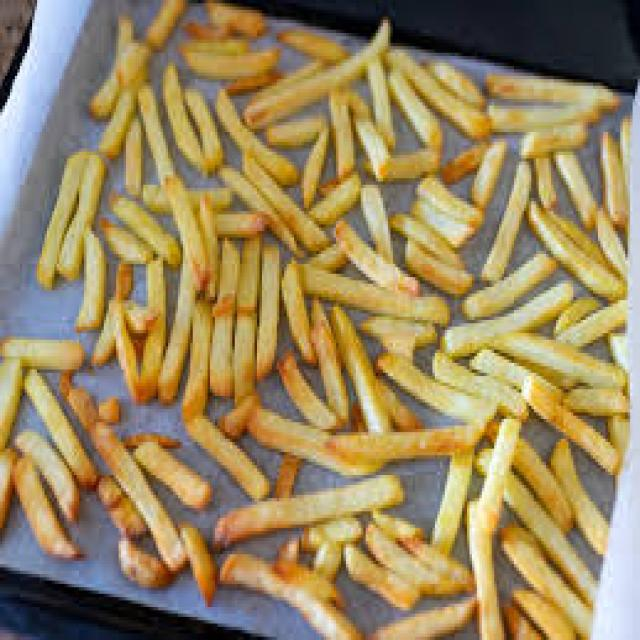감자튀김: (0, 0, 628, 640)
